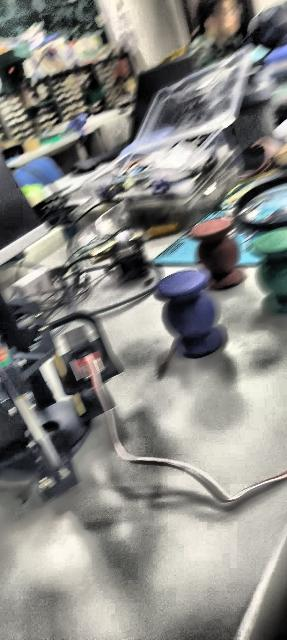blue: (156, 268, 224, 359)
green: (248, 226, 286, 314)
red: (192, 217, 244, 292)
